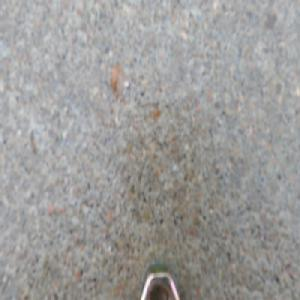Nut: (138, 263, 181, 300)
